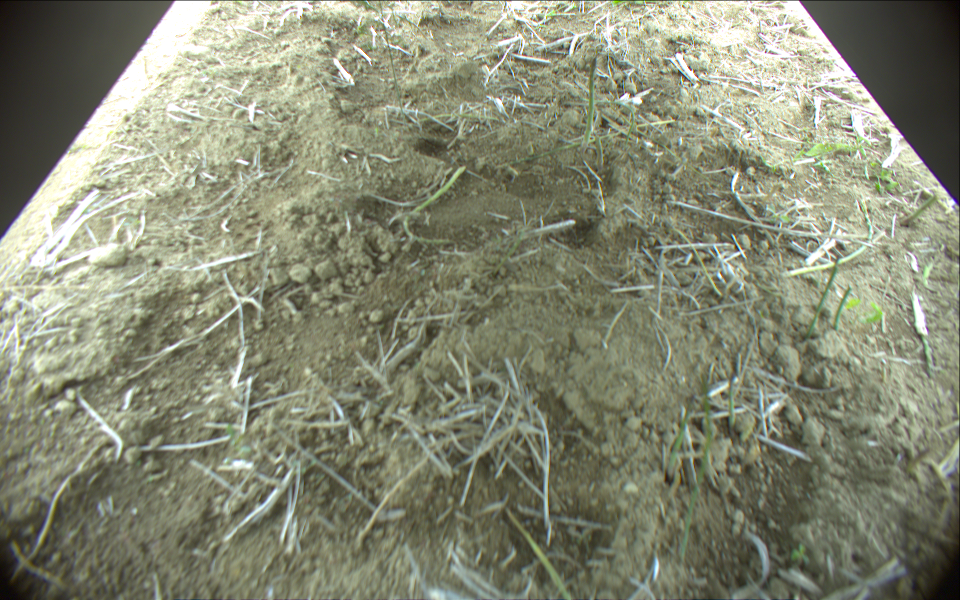aspa: (505, 508, 573, 600), (786, 230, 884, 277), (679, 432, 715, 556), (400, 166, 467, 224), (674, 226, 723, 295), (806, 255, 840, 334), (376, 1, 402, 81), (702, 369, 717, 474), (582, 58, 599, 150), (667, 413, 688, 484), (897, 194, 935, 225), (833, 285, 854, 331), (726, 370, 738, 434), (858, 194, 873, 241)
